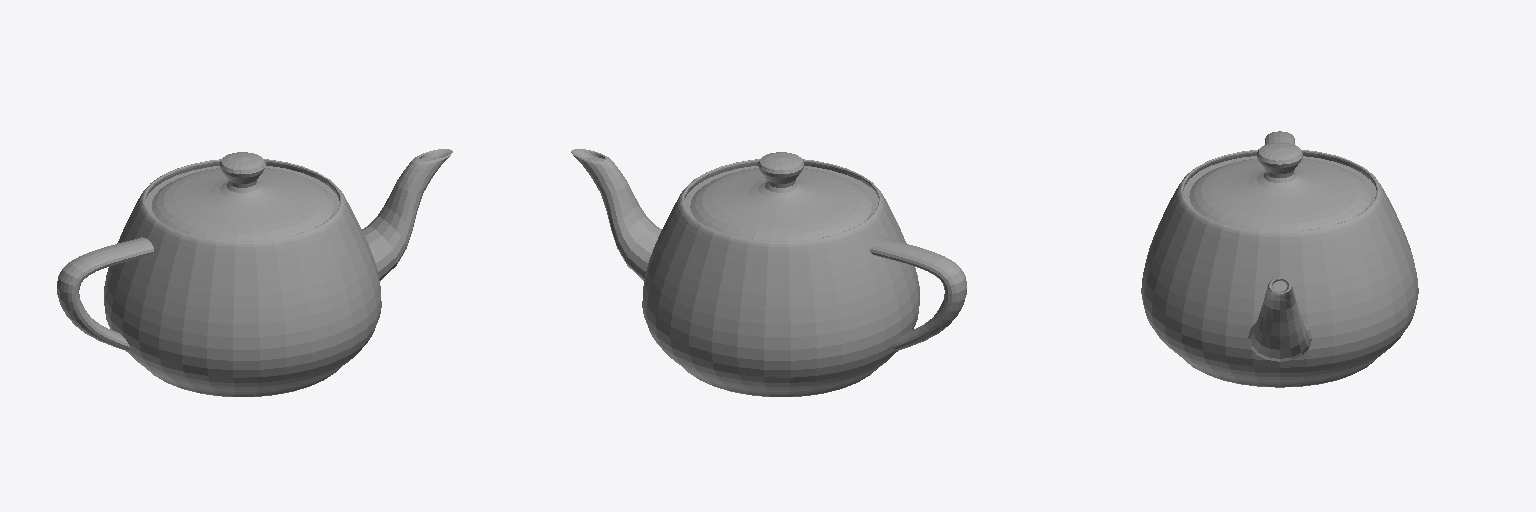
Rendered from teapot2.obj.
3 renders of one model, left to right at view 1: azimuth 30°, elevation 25°; view 2: azimuth 150°, elevation 25°; view 3: azimuth 270°, elevation 25°, orthographic.
Visible parts, largest first — view 1: Utah-Teapot; view 2: Utah-Teapot; view 3: Utah-Teapot.
Part boxes in pixels (left/top/right/bottom): Utah-Teapot: left=57, top=149, right=452, bottom=396; Utah-Teapot: left=571, top=149, right=966, bottom=396; Utah-Teapot: left=1141, top=131, right=1418, bottom=387.
Bounding box in the file's own units: 4.94 × 2.44 × 3.02.